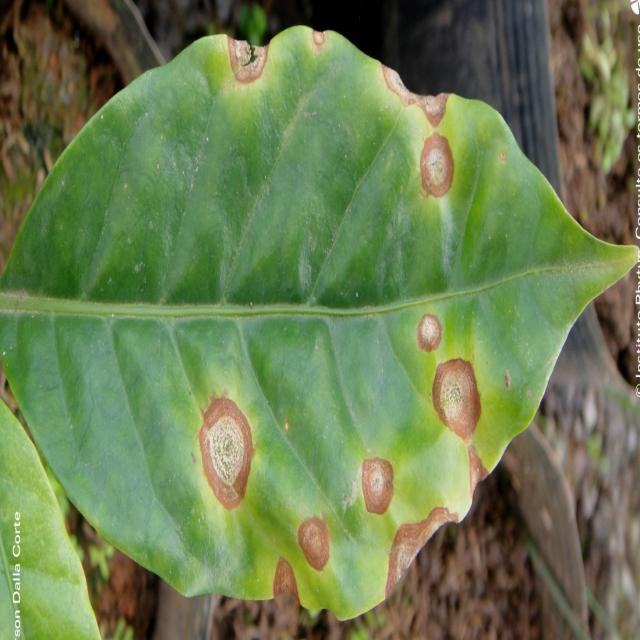Enfermedad-Mancha-de-hierro: (0, 27, 640, 640)
